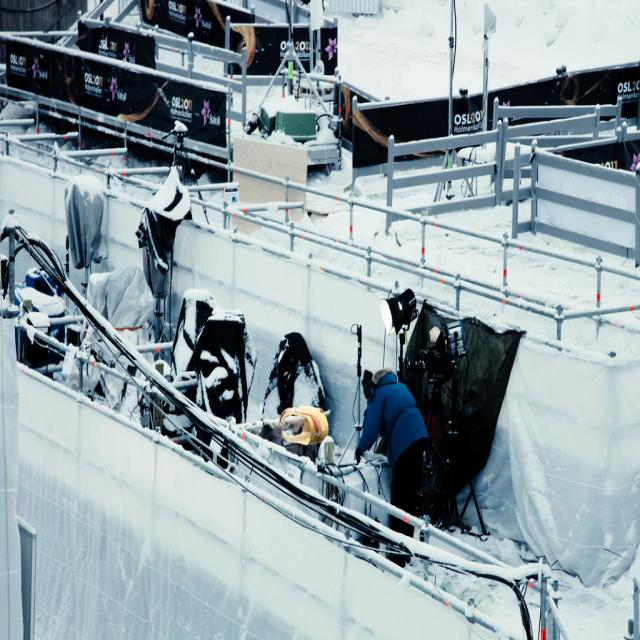Boat: (0, 82, 640, 639), (0, 0, 398, 216)
